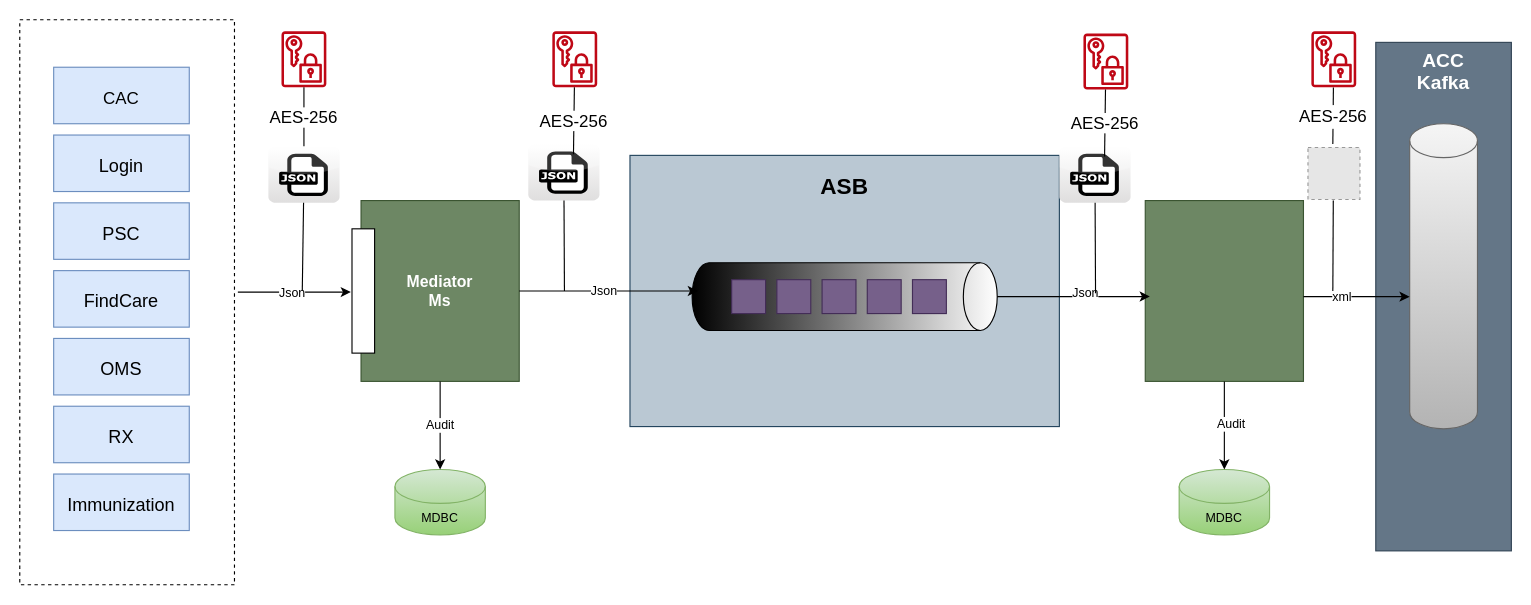
The diagram is 1531 pixels wide and 605 high, and some of its shapes have lost their labels. Grey dashed boxes stand in for pictures. The shapes that lost their labels are listed below. From the top down, each one's centre as x and y in pixels, then its label:
point (363, 290): /mediator/email
point (1223, 290): Communicator Ms
